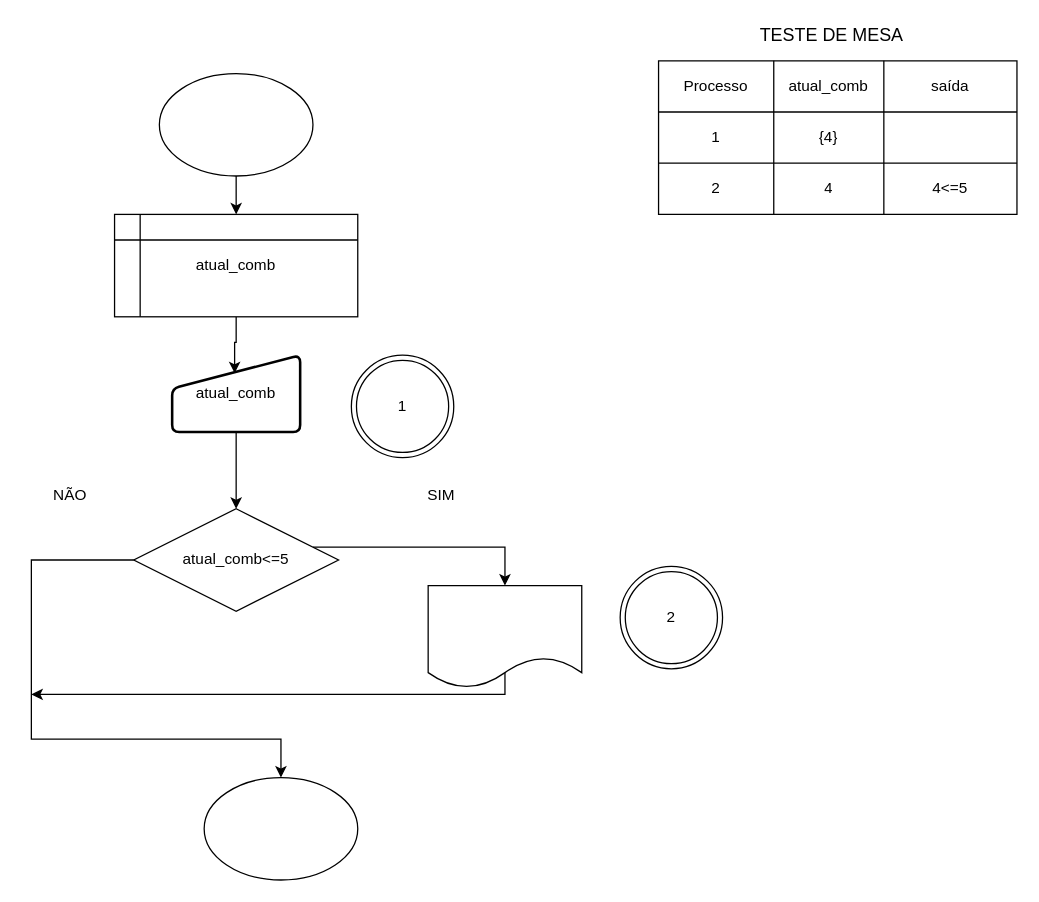
This 1039x902 diagram has some shape labels left out. Here are the shapes that lost their labels. From the top down, the centre of each, then its label:
pixel 235 124: INICIO
pixel 504 636: acender a luz de reserva painel
pixel 280 828: FIM
